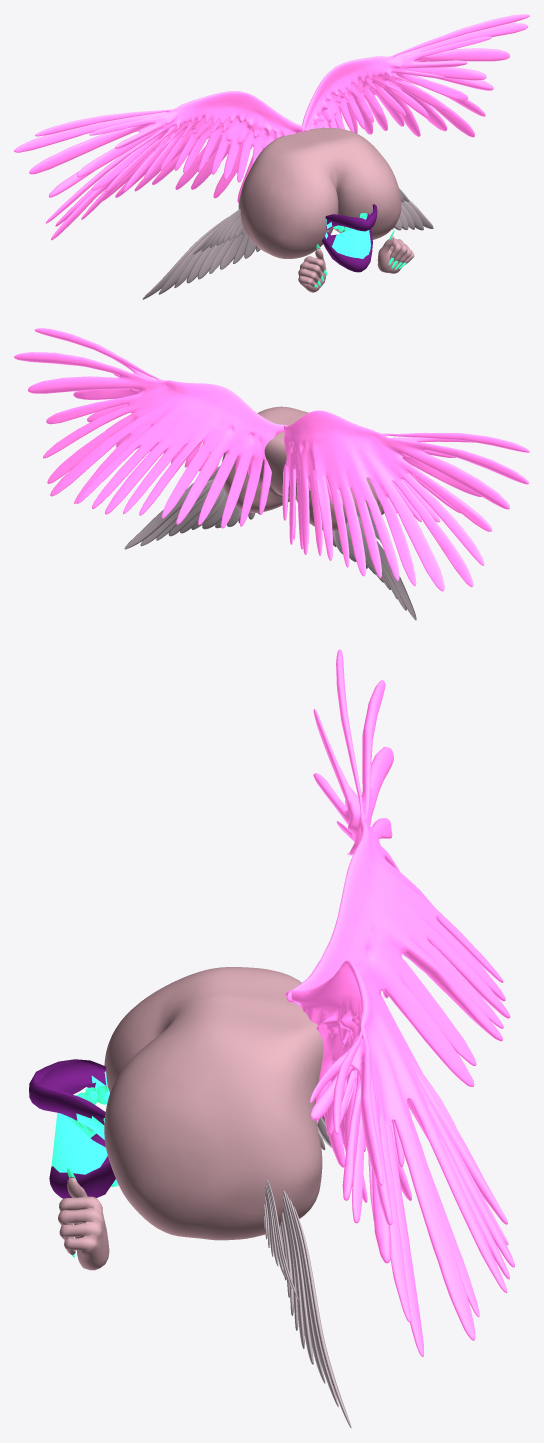
Rendered from ass.glb.
3 renders of one model, top to bottom at view 1: azimuth 30°, elevation 25°; view 2: azimuth 150°, elevation 25°; view 3: azimuth 270°, elevation 25°, orthographic. The views are drawn at different scales.
Parts seen in each view (by area): view 1: big_wing_1, ass, big_wing, wings_smol_1, mouth, hand_l, hand_r, wings_smol; view 2: big_wing, big_wing_1, ass, wings_smol, wings_smol_1; view 3: ass, big_wing, big_wing_1, mouth, wings_smol, hand_l.
Boxes of the visible parts, x1,y1,x2,y2 form: big_wing_1: (14, 91, 306, 240); ass: (238, 128, 401, 258); big_wing: (302, 14, 529, 137); wings_smol_1: (142, 209, 260, 299); mouth: (322, 204, 377, 272); hand_l: (377, 230, 414, 273); hand_r: (298, 244, 327, 292); wings_smol: (392, 188, 433, 230); big_wing: (14, 328, 287, 528); big_wing_1: (282, 410, 529, 591); ass: (222, 406, 379, 531); wings_smol: (124, 466, 259, 549); wings_smol_1: (332, 508, 416, 620); ass: (104, 967, 323, 1240); big_wing: (286, 960, 514, 1356); big_wing_1: (286, 649, 510, 1151); mouth: (29, 1059, 118, 1198); wings_smol: (263, 1179, 351, 1427); hand_l: (58, 1168, 109, 1270).
Size of the model in its own units: 1.62 by 0.5984 by 0.6655.
